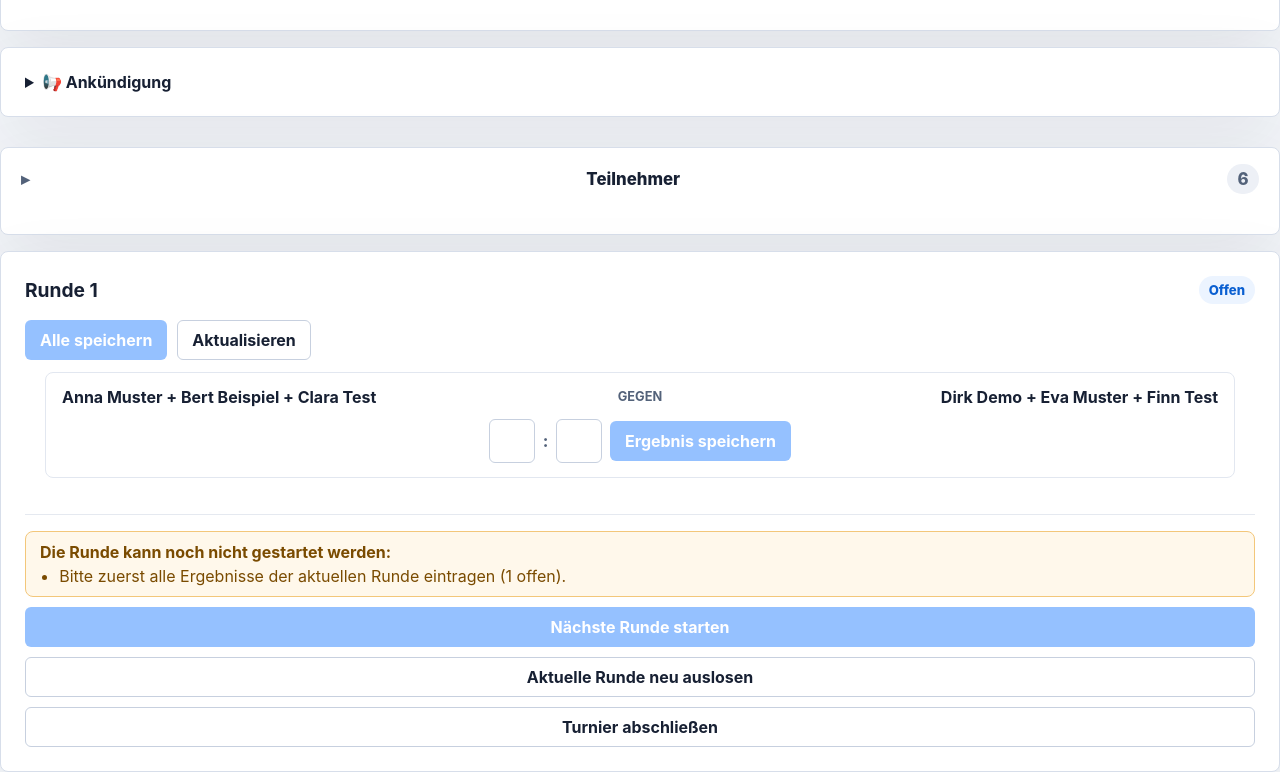
Test: TournamentPlayManagement › lost die aktuelle Runde nach Rückfrage neu aus, solange kein Ergebnis eingetragen ist
(page scrolled)
Expected: the text "Anna Muster + Bert Beispiel + Clara Test" is shown, [62, 387, 376, 407]
Click the button "Aktuelle Runde neu auslosen" at (640, 677), box [25, 657, 1255, 697]
(page scrolled)
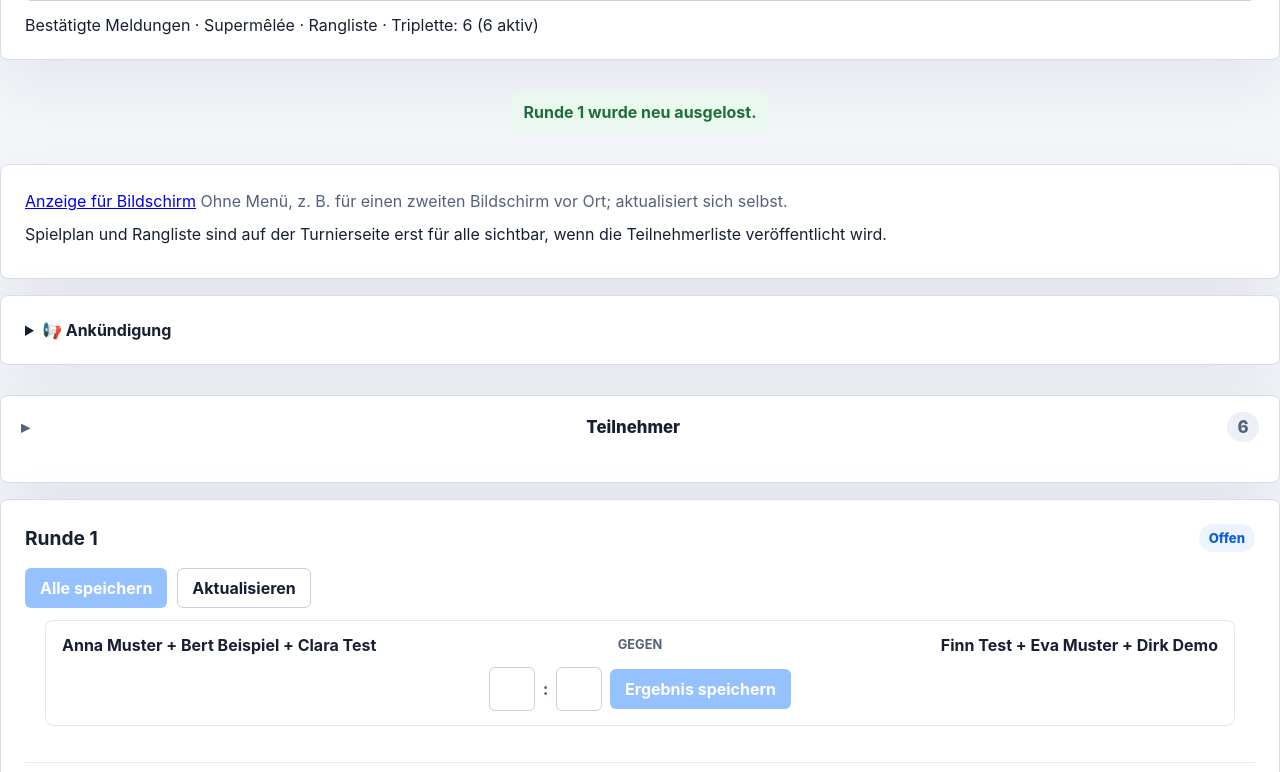
Expected: the text "Runde 1 wurde neu ausgelost." is shown, [512, 92, 768, 132]
Expected: the text "Finn Test + Eva Muster + Dirk Demo" is shown, [941, 635, 1218, 655]
